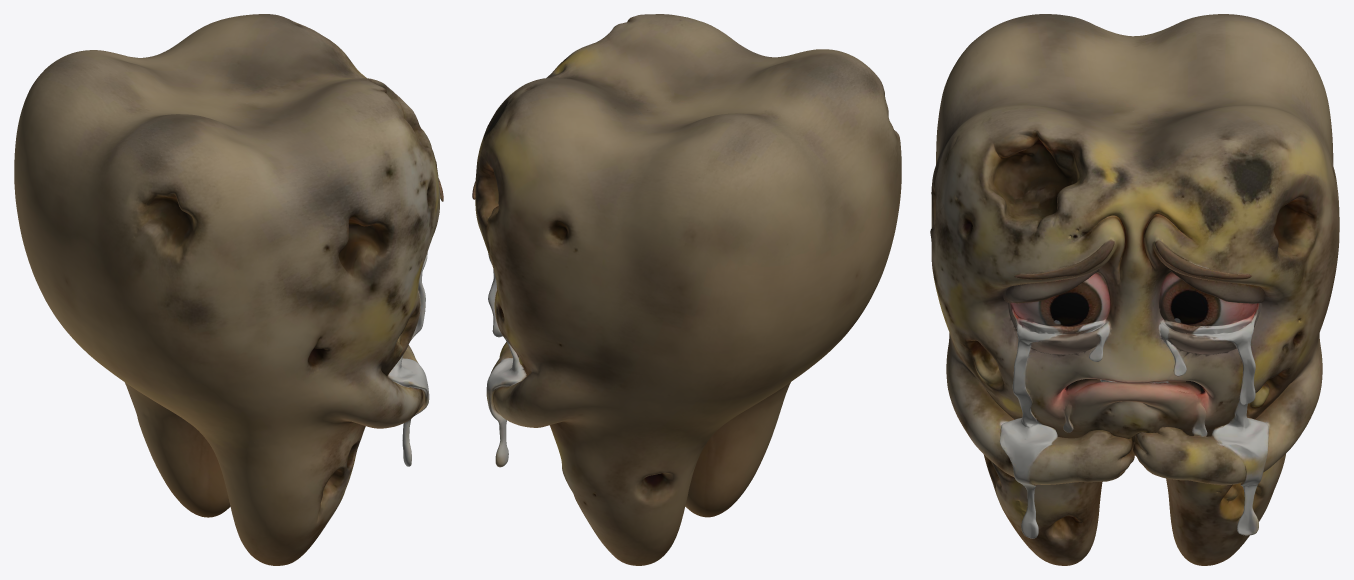
The model's file is glbData_1780604388408_qx2cd.glb.
The picture shows the model from 3 angles, left to right: view 1: azimuth 30°, elevation 25°; view 2: azimuth 150°, elevation 25°; view 3: azimuth 270°, elevation 25°; orthographic projection. The views are drawn at different scales.
Parts seen in each view (by area): view 1: tripo_node_a96b88cc-59e7-4df0-a651-c510c6369995; view 2: tripo_node_a96b88cc-59e7-4df0-a651-c510c6369995; view 3: tripo_node_a96b88cc-59e7-4df0-a651-c510c6369995.
Boxes of the visible parts, x1,y1,x2,y2 form: tripo_node_a96b88cc-59e7-4df0-a651-c510c6369995: (14,14,443,565); tripo_node_a96b88cc-59e7-4df0-a651-c510c6369995: (472,14,901,565); tripo_node_a96b88cc-59e7-4df0-a651-c510c6369995: (930,14,1339,565).
Size of the model in its own units: 0.0767 by 0.1 by 0.0755.
1 material, 1 textured.
